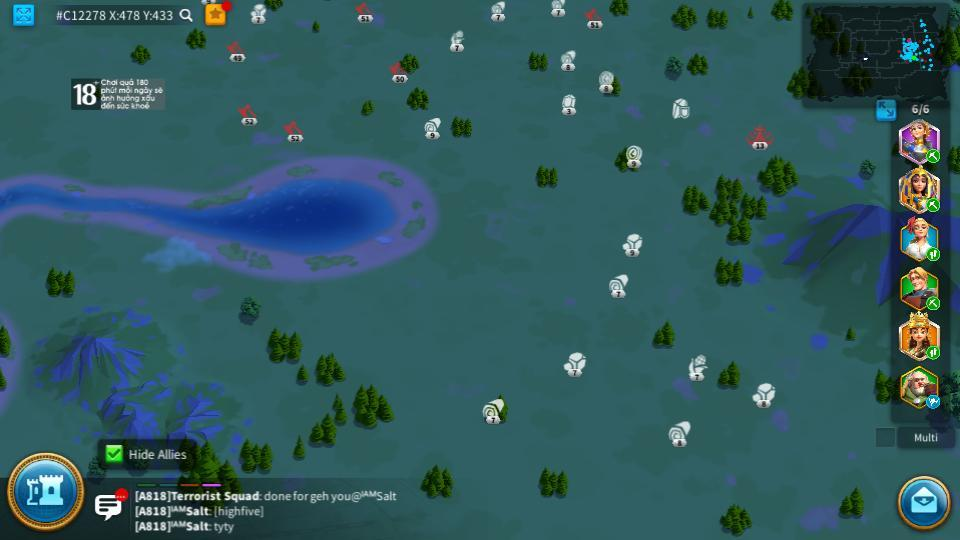gem-z-out: (560, 93, 578, 113)
march_idle: (925, 394, 942, 408)
march_marching: (925, 197, 941, 212), (925, 345, 941, 359), (924, 248, 942, 260), (925, 150, 942, 162), (925, 297, 942, 308)
